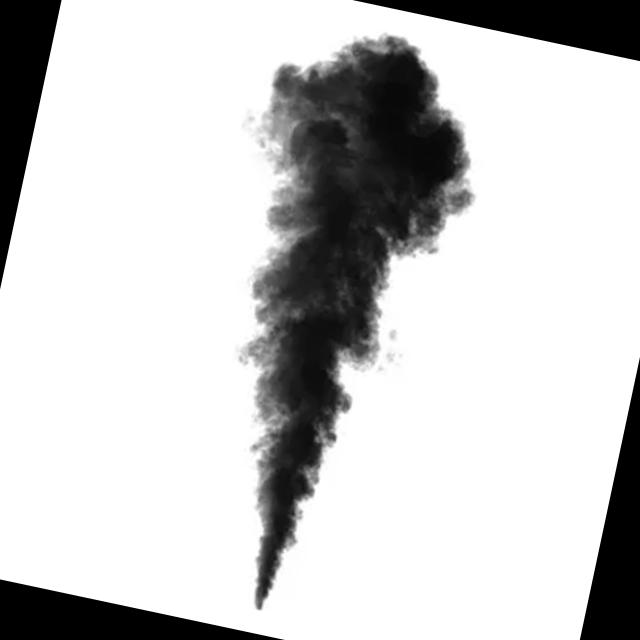Smoke: (146, 9, 504, 635)
